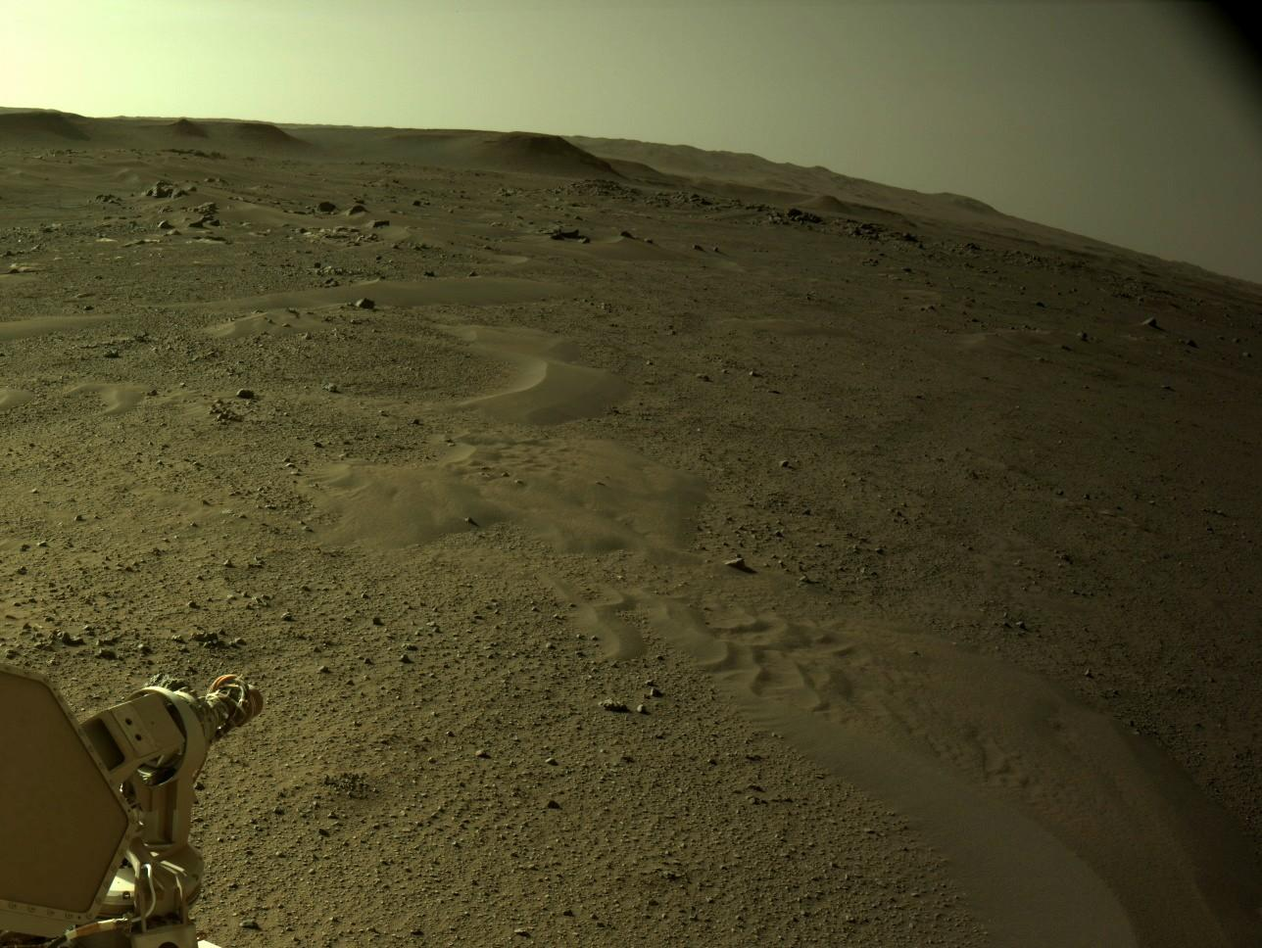bedrock: (835, 195, 1012, 250), (549, 176, 792, 215), (506, 173, 536, 183), (797, 193, 812, 202), (823, 219, 843, 224)
big_rock: (853, 220, 918, 236), (793, 209, 823, 217)
sand: (1, 107, 1260, 947), (3, 649, 959, 947), (605, 158, 694, 184), (1, 387, 5, 411), (9, 388, 13, 407), (814, 190, 827, 193), (738, 187, 755, 188), (229, 191, 236, 193)
soil: (4, 269, 983, 945), (595, 252, 1258, 795), (354, 160, 484, 176), (6, 346, 9, 386)
